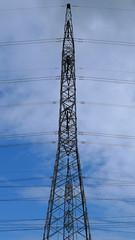power_tower: (41, 1, 102, 239)
